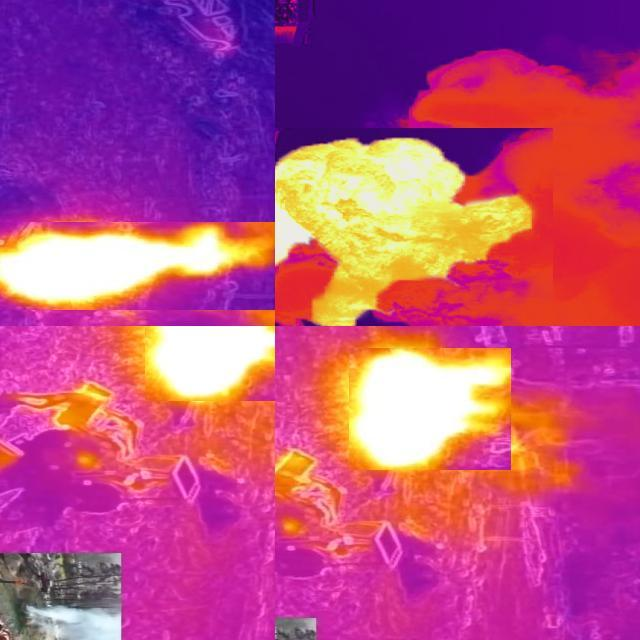fire: (276, 125, 533, 327), (1, 222, 276, 310), (350, 348, 512, 470), (146, 327, 276, 401)
